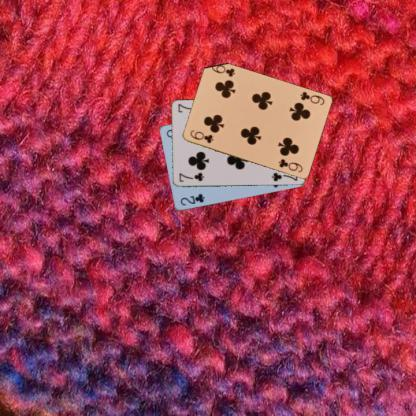2c: (177, 191, 206, 207)
6c: (296, 88, 326, 106), (188, 128, 214, 144)
7c: (176, 171, 206, 183)
